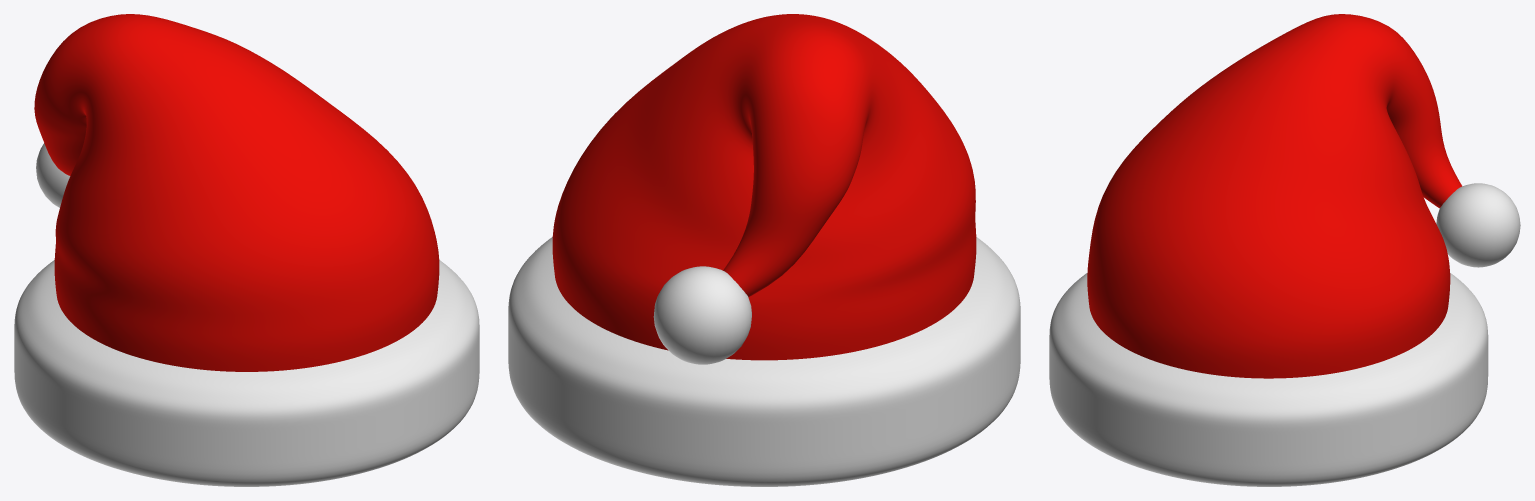
Rendered from HAT.fbx.
The picture shows the model from 3 angles, left to right: view 1: azimuth 30°, elevation 25°; view 2: azimuth 150°, elevation 25°; view 3: azimuth 270°, elevation 25°; orthographic projection. The views are drawn at different scales.
Visible parts, largest first — view 1: Circle, Circle.001, Sphere; view 2: Circle, Circle.001, Sphere; view 3: Circle, Circle.001, Sphere.
Boxes of the visible parts, x1,y1,x2,y2 form: Circle: [34, 14, 439, 371]; Circle.001: [14, 260, 479, 486]; Sphere: [36, 143, 70, 207]; Circle: [552, 14, 976, 360]; Circle.001: [508, 237, 1020, 486]; Sphere: [653, 266, 751, 364]; Circle: [1087, 14, 1461, 378]; Circle.001: [1049, 273, 1488, 486]; Sphere: [1436, 183, 1520, 267].
Bounding box in the file's own units: 397 × 348 × 427.
